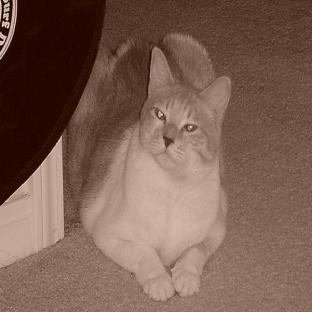Animal: (67, 34, 230, 300)
